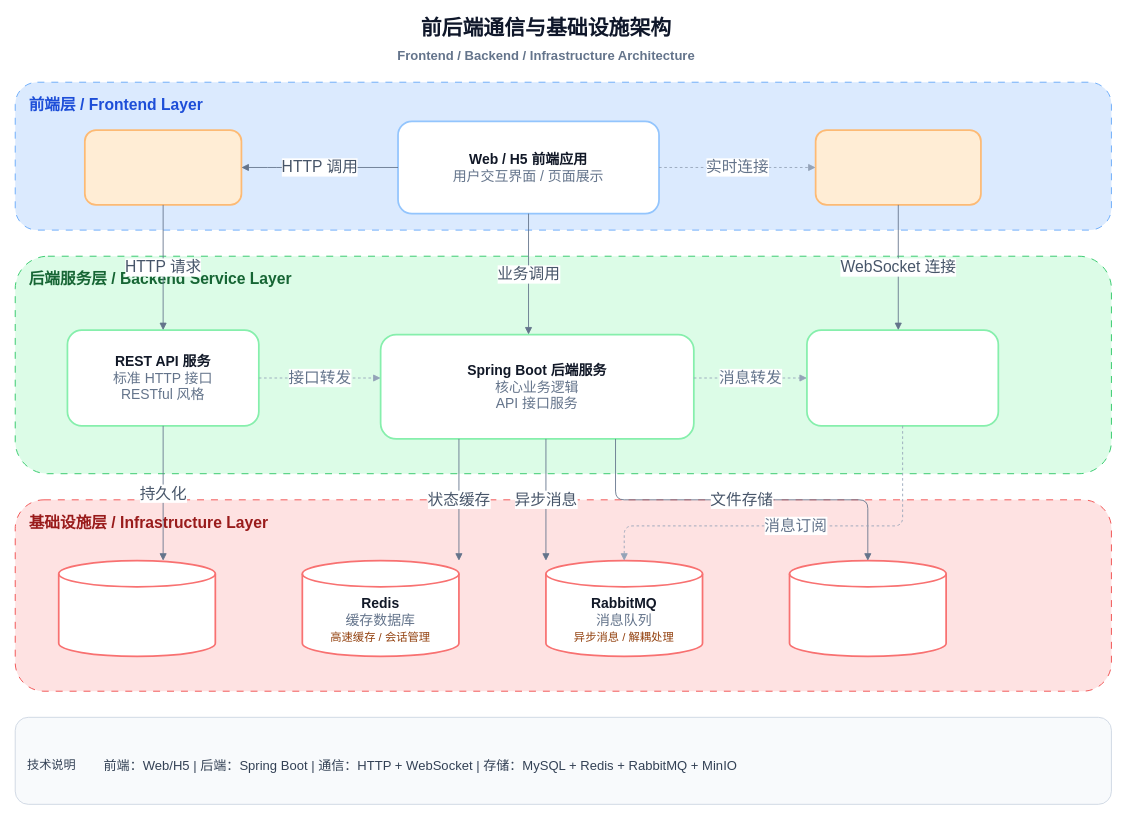
The diagram is 1144 pixels wide and 820 high, and some of its shapes have lost their labels. Each missing label, with the centre of its shape:
"HTTP 协议 RESTful API" goes at pixel 163 167.
"MinIO 对象存储 文件存储 / 图片媒体" goes at pixel 867 608.
"MySQL 关系型数据库 持久化存储 / 事务管理" goes at pixel 136 608.
"STOMP 服务 WebSocket 消息协议 实时双向通信" goes at pixel 902 377.
"WebSocket 协议 实时通信" goes at pixel 897 167.
